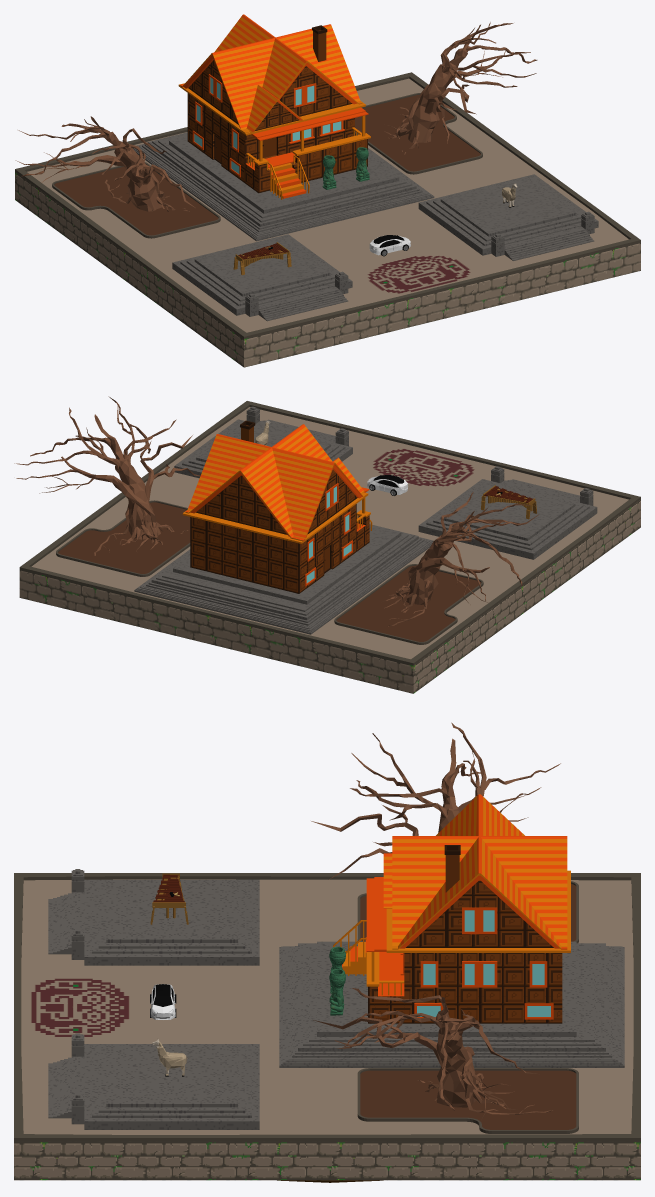
3 views of the same model, one above another, from view 1: azimuth 30°, elevation 25°; view 2: azimuth 150°, elevation 25°; view 3: azimuth 270°, elevation 25° (orthographic). The views are drawn at different scales.
Parts seen in each view (by area): view 1: Cube.011, Cube, OBJRANDOM_MARIMBA, VEHICLES_TESLA; view 2: Cube.011, Cube, OBJRANDOM_MARIMBA, VEHICLES_TESLA; view 3: Cube.011, Cube, OBJRANDOM_MARIMBA, VEHICLES_TESLA.
Part boxes in pixels (box(x1,y1,x2,y2)): Cube.011: box(15, 22, 640, 367); Cube: box(178, 14, 370, 199); OBJRANDOM_MARIMBA: box(233, 242, 291, 275); VEHICLES_TESLA: box(369, 235, 410, 256); Cube.011: box(14, 396, 640, 693); Cube: box(182, 420, 372, 593); OBJRANDOM_MARIMBA: box(481, 485, 536, 519); VEHICLES_TESLA: box(367, 475, 408, 495); Cube.011: box(14, 722, 640, 1180); Cube: box(333, 794, 570, 1023); OBJRANDOM_MARIMBA: box(150, 873, 188, 924); VEHICLES_TESLA: box(150, 984, 176, 1019).
Size of the model in its own units: 5099 by 1726 by 4000.
34 materials, 6 textured.
